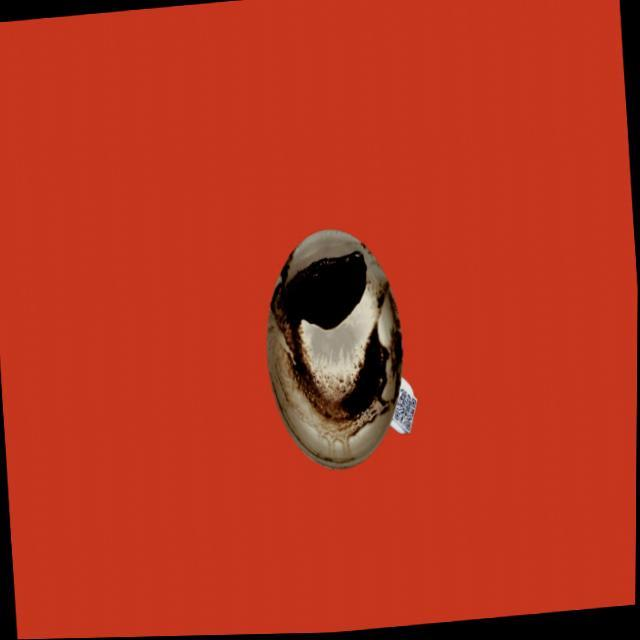cup: (253, 217, 427, 480)
